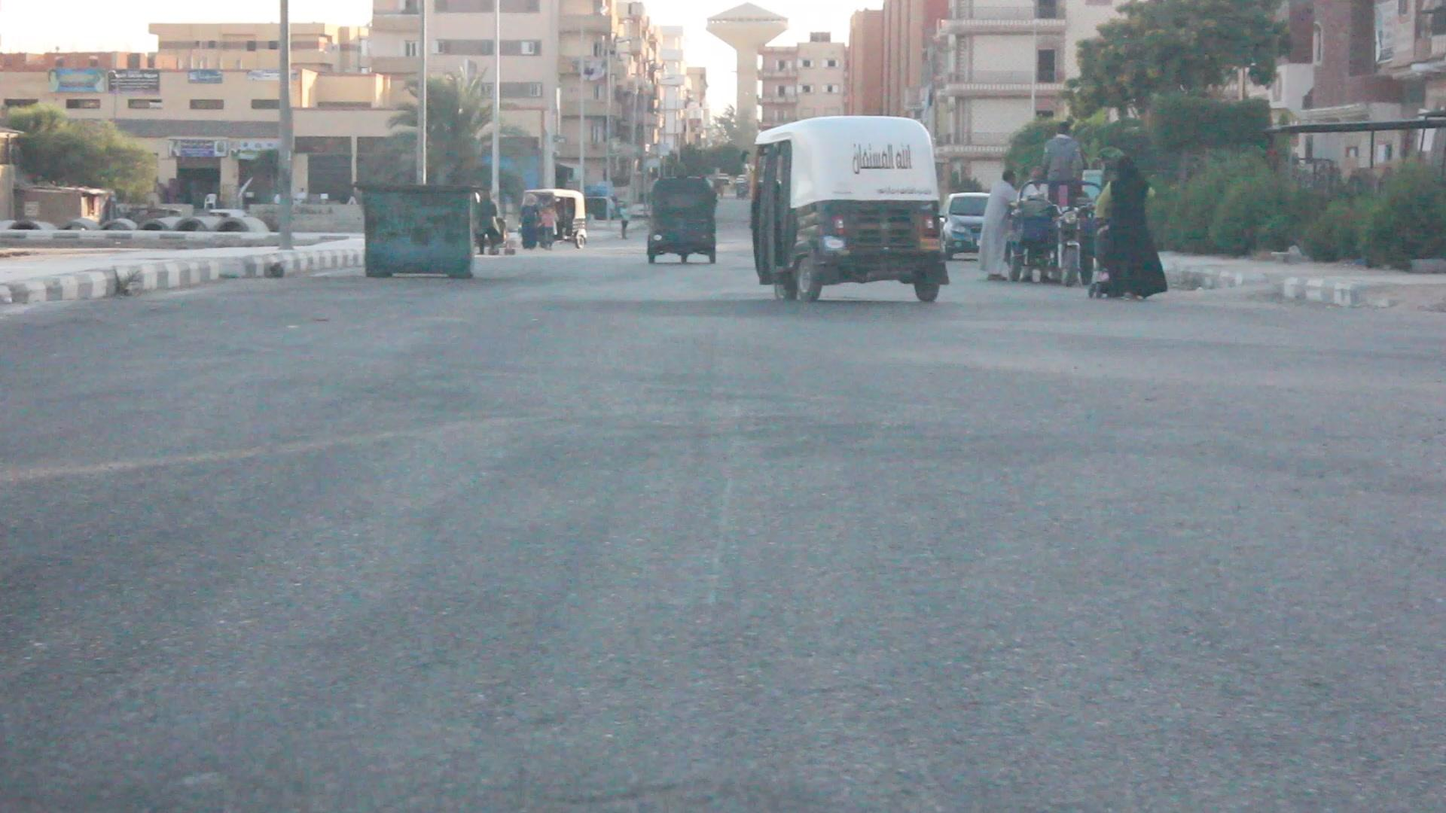Bump: (207, 286, 1365, 320)
